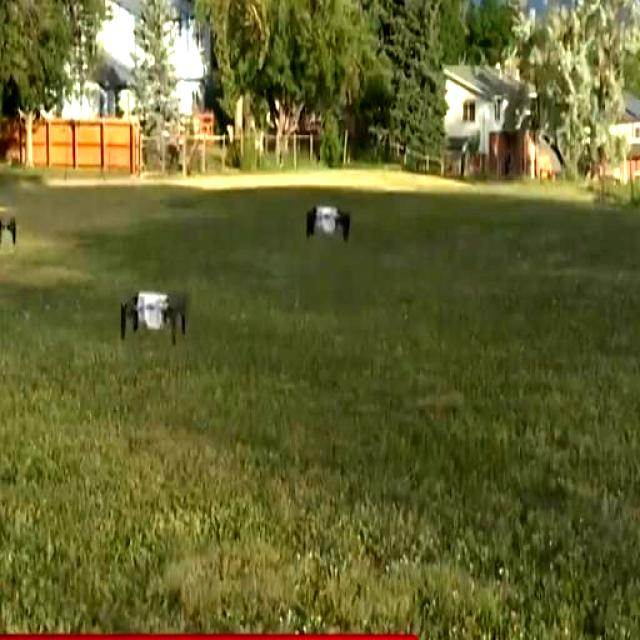bird: (106, 270, 196, 360), (304, 181, 354, 258), (0, 175, 34, 262)
